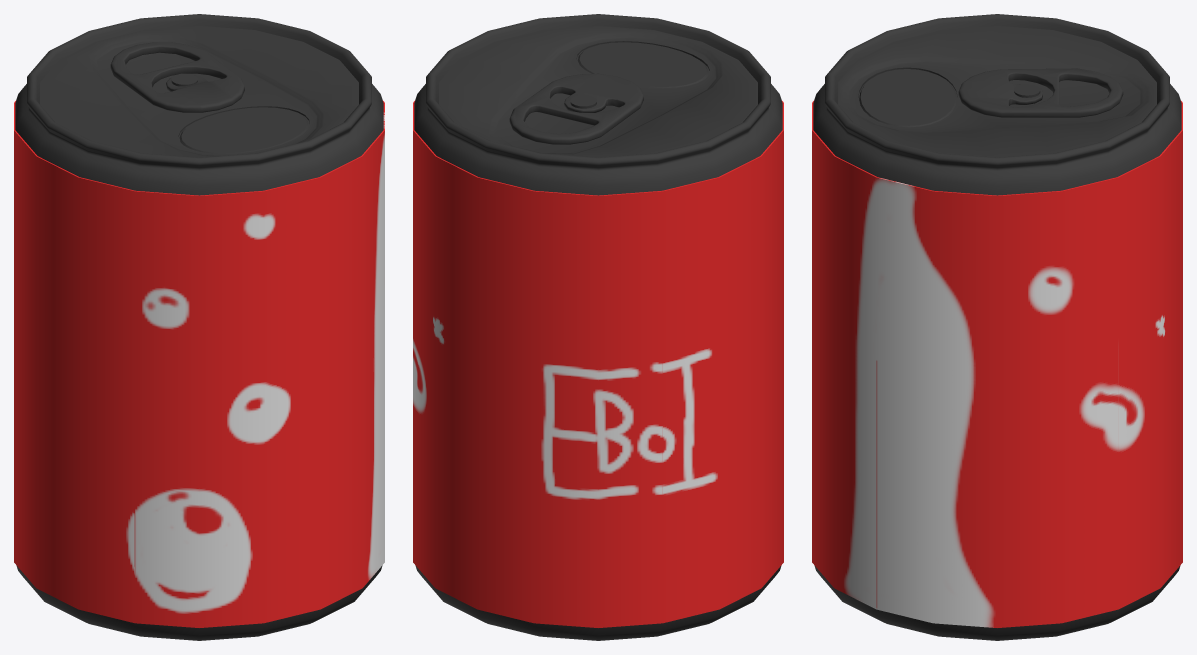
The model's file is Soda Can.FBX.
3 renders of one model, left to right at view 1: azimuth 30°, elevation 25°; view 2: azimuth 150°, elevation 25°; view 3: azimuth 270°, elevation 25°, orthographic.
Parts seen in each view (by area): view 1: Cylinder001; view 2: Cylinder001; view 3: Cylinder001.
Part boxes in pixels (box(x1,y1,x2,y2)): Cylinder001: box(14, 14, 384, 640); Cylinder001: box(413, 14, 783, 640); Cylinder001: box(812, 14, 1182, 640).
Size of the model in its own units: 77.73 by 110 by 76.55.
